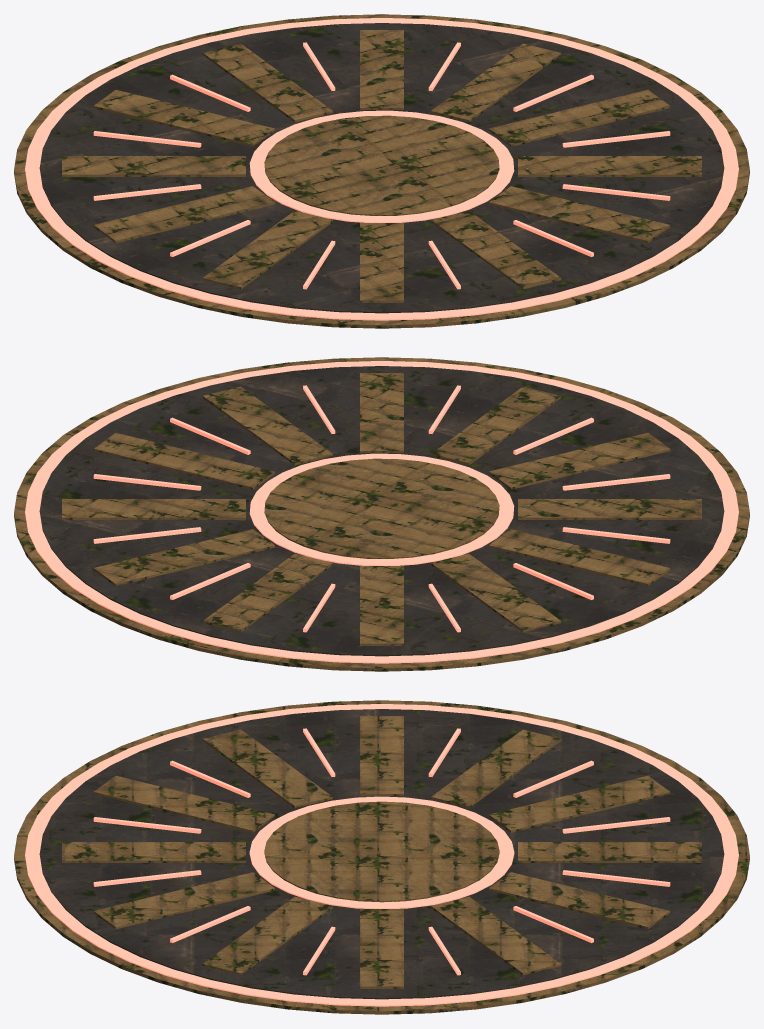
The model's file is Seal_Boss.fbx.
3 views of the same model, one above another, from view 1: azimuth 30°, elevation 25°; view 2: azimuth 150°, elevation 25°; view 3: azimuth 270°, elevation 25° (orthographic).
Visible parts, largest first — view 1: Seal_Boss; view 2: Seal_Boss; view 3: Seal_Boss.
Boxes of the visible parts, x1,y1,x2,y2 form: Seal_Boss: (14,14,749,328); Seal_Boss: (14,357,749,671); Seal_Boss: (14,700,749,1014).
Size of the model in its own units: 12 by 0.16 by 12.
